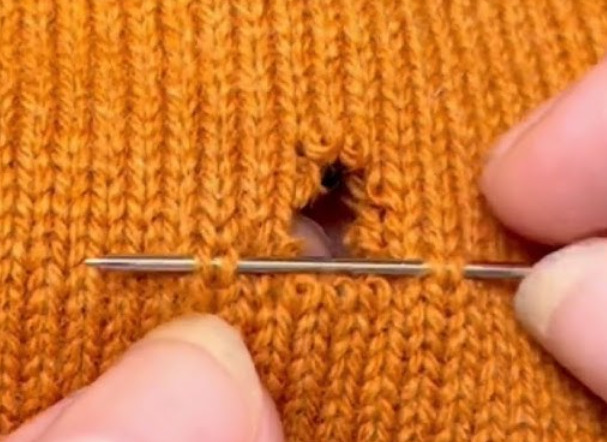hole_2: (293, 153, 366, 275)
